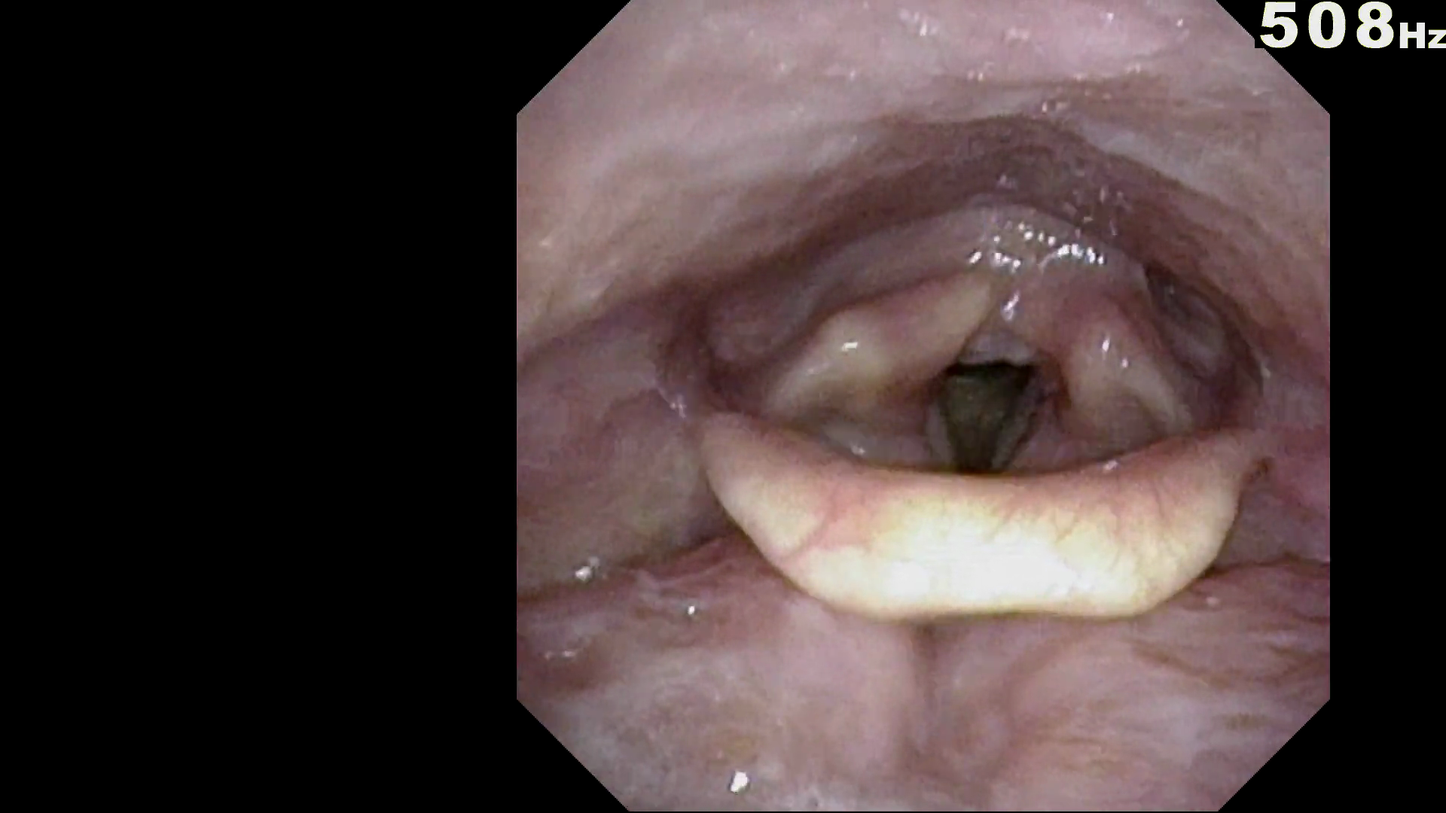epiglottis: (681, 370, 1278, 664)
trachea: (897, 332, 1069, 508)
